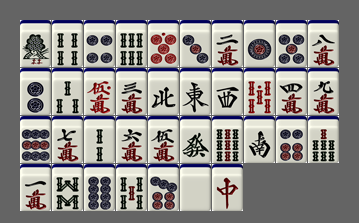0m: (84, 68, 115, 115)
0p: (148, 20, 179, 67)
0s: (244, 68, 275, 115)
1m: (20, 164, 51, 211)
1p: (244, 20, 275, 67)
1s: (20, 20, 51, 67)
1z: (180, 68, 211, 115)
2m: (212, 20, 243, 67)
2p: (20, 68, 51, 115)
2s: (84, 116, 115, 163)
2z: (244, 116, 275, 163)
3m: (116, 68, 147, 115)
3p: (180, 20, 211, 67)
3s: (52, 68, 83, 115)
3z: (212, 68, 243, 115)
4m: (276, 68, 307, 115)
4p: (84, 20, 115, 67)
4s: (52, 20, 83, 67)
4z: (148, 68, 179, 115)
5m: (148, 116, 179, 163)
5p: (276, 20, 307, 67)
5s: (116, 164, 147, 211)
5z: (180, 164, 211, 211)
6m: (116, 116, 147, 163)
6p: (276, 116, 307, 163)
6s: (116, 20, 147, 67)
6z: (180, 116, 211, 163)
7m: (52, 116, 83, 163)
7p: (148, 164, 179, 211)
7s: (308, 116, 339, 163)
7z: (212, 164, 243, 211)
8m: (308, 20, 339, 67)
8p: (84, 164, 115, 211)
8s: (52, 164, 83, 211)
9m: (308, 68, 339, 115)
9p: (20, 116, 51, 163)
9s: (212, 116, 243, 163)
